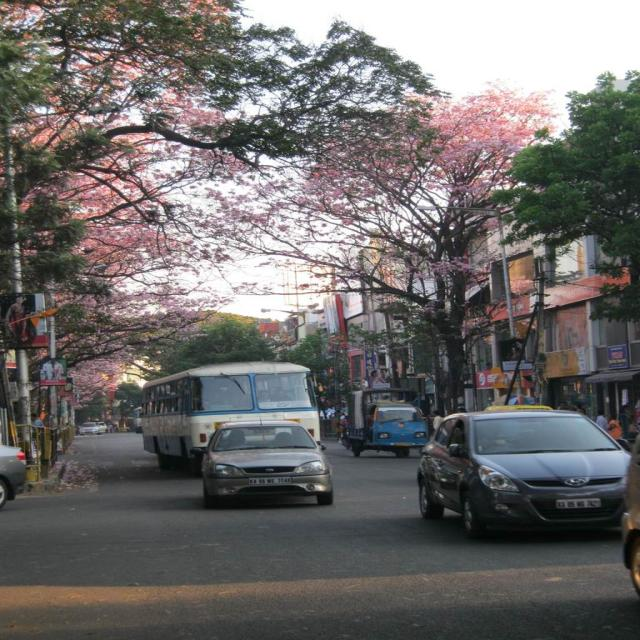car: (198, 411, 327, 507), (77, 421, 100, 434)
